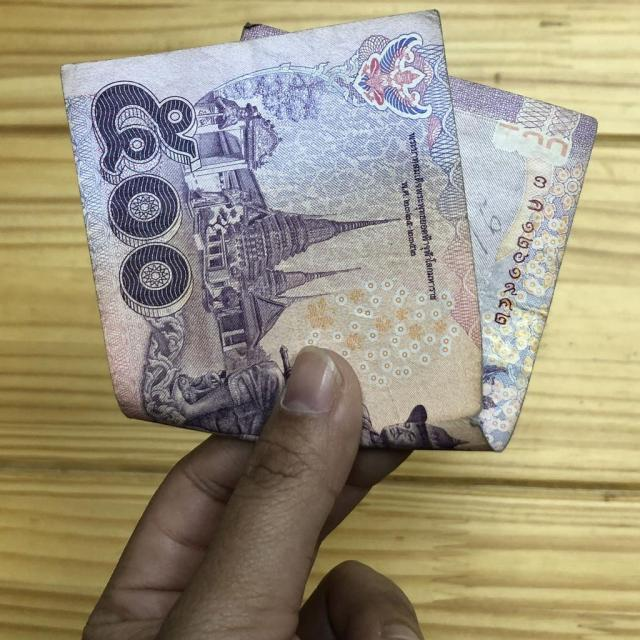THAI500: (59, 9, 595, 451)
